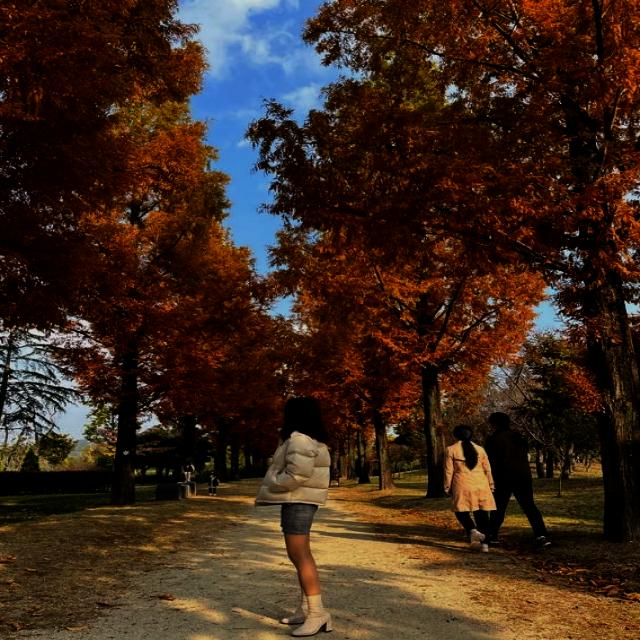padding: (250, 428, 334, 512)
skirt: (284, 502, 318, 540)
